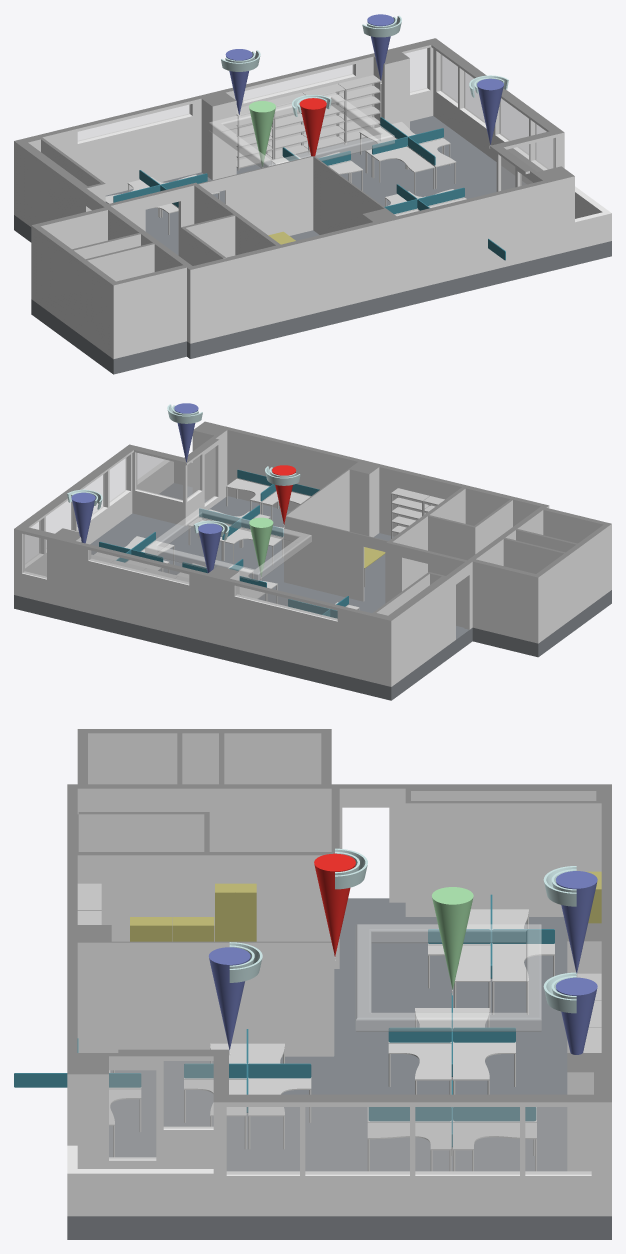
Rendered from eForce-3F-360FBXtoBlenderGLB_x1000.glb.
3 views of the same model, one above another, from view 1: azimuth 30°, elevation 25°; view 2: azimuth 150°, elevation 25°; view 3: azimuth 270°, elevation 25° (orthographic). The views are drawn at different scales.
Visible parts, largest first — view 1: wall_1, floor.001, wall_2, Body1067, Body1042, Body1044, Body12.001, Body1043, Body1045, Body3.001, Body4.001, Body1057 (+12 smaller); view 2: wall_1, floor.001, wall_2, Body1067, Body12.001, Body1047, Body3.001, Body4.001, Body9.002, Body1065, Body1060, Body1063 (+8 smaller); view 3: wall_1, floor.001, wall_2, Body1067, Body5.001, Body6.001, Body8.002, Body7.001, Body13.001, Body12.001, Body1051, Body1065 (+31 smaller).
Part boxes in pixels (box(x1,y1,x2,y2)): wall_1: box(14, 45, 611, 359); floor.001: box(14, 116, 611, 374); wall_2: box(14, 38, 574, 285); Body1067: box(208, 92, 394, 168); Body1042: box(338, 75, 381, 144); Body1044: box(266, 92, 309, 159); Body12.001: box(501, 138, 554, 190); Body1043: box(302, 83, 345, 152); Body1045: box(236, 105, 273, 170); Body3.001: box(77, 104, 190, 141); Body4.001: box(243, 65, 353, 100); Body1057: box(477, 78, 503, 145); wall_1: box(14, 430, 611, 686); floor.001: box(14, 483, 611, 700); wall_2: box(14, 421, 611, 620); Body1067: box(145, 508, 311, 581); Body12.001: box(136, 453, 199, 500); Body1047: box(391, 488, 429, 538); Body3.001: box(235, 586, 337, 620); Body4.001: box(89, 550, 189, 584); Body9.002: box(22, 534, 46, 578); Body1065: box(249, 517, 273, 576); Body1060: box(71, 492, 95, 543); Body1063: box(198, 523, 222, 572); wall_1: box(67, 733, 611, 1216); floor.001: box(67, 898, 611, 1239); wall_2: box(67, 729, 611, 1102); Body1067: box(355, 924, 541, 1031); Body5.001: box(415, 1107, 519, 1174); Body6.001: box(305, 1107, 409, 1174); Body8.002: box(226, 1107, 299, 1174); Body7.001: box(525, 1107, 591, 1174); Body13.001: box(109, 1070, 156, 1159); Body12.001: box(163, 1061, 213, 1128); Body1051: box(215, 883, 256, 941); Body1065: box(432, 887, 473, 989).
Size of the model in its own units: 16860 by 4885 by 11415.
